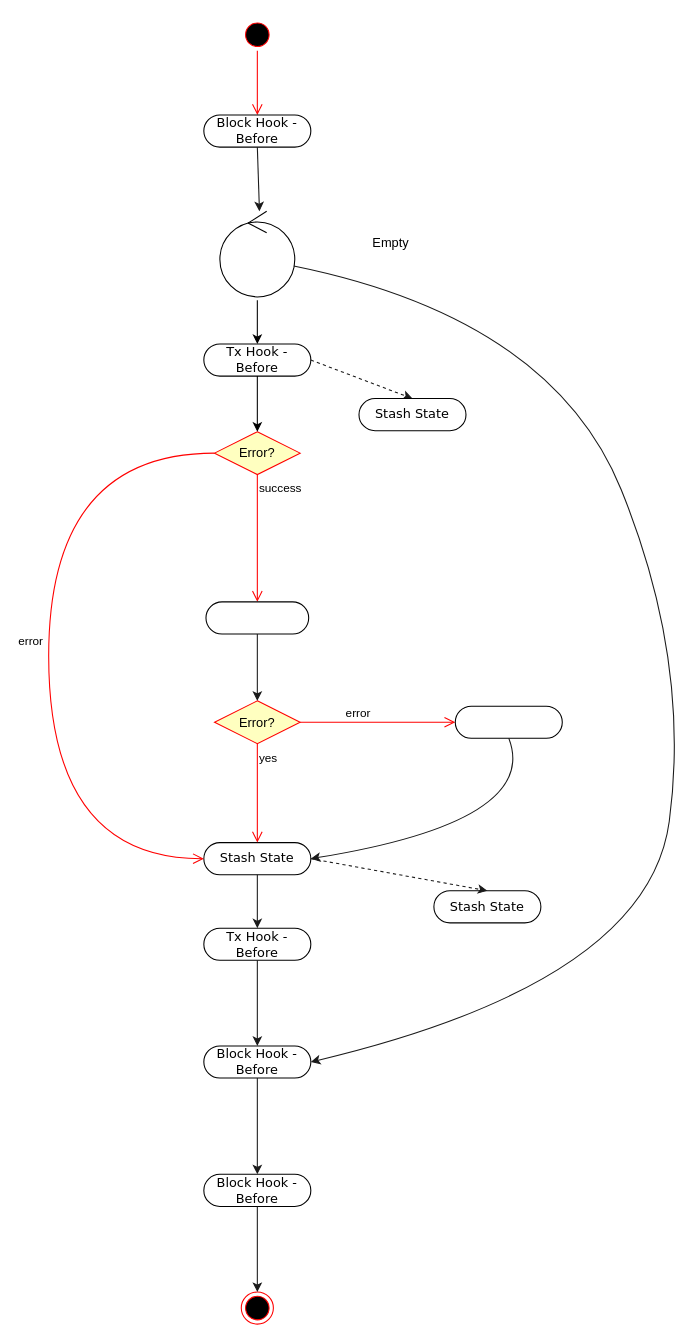
Some shapes in this 693 by 1343 pixel diagram are drawn without their labels. Here are the shapes that lost their labels. From the top down, the box of each, then its label:
(219, 210, 295, 297): Next Tx
(205, 601, 309, 634): Execute tx
(454, 705, 562, 738): Revrt State
